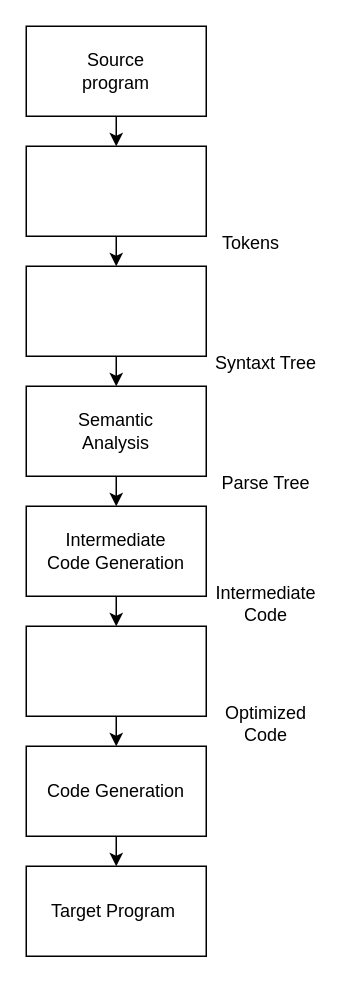
This 353x983 diagram has some shape labels left out. The centre of each missing label's shape, as x and y in pixels:
Code Optimization: pixel 115 670
Lexical Analysis: pixel 115 190
Syntax Analysis: pixel 115 310
